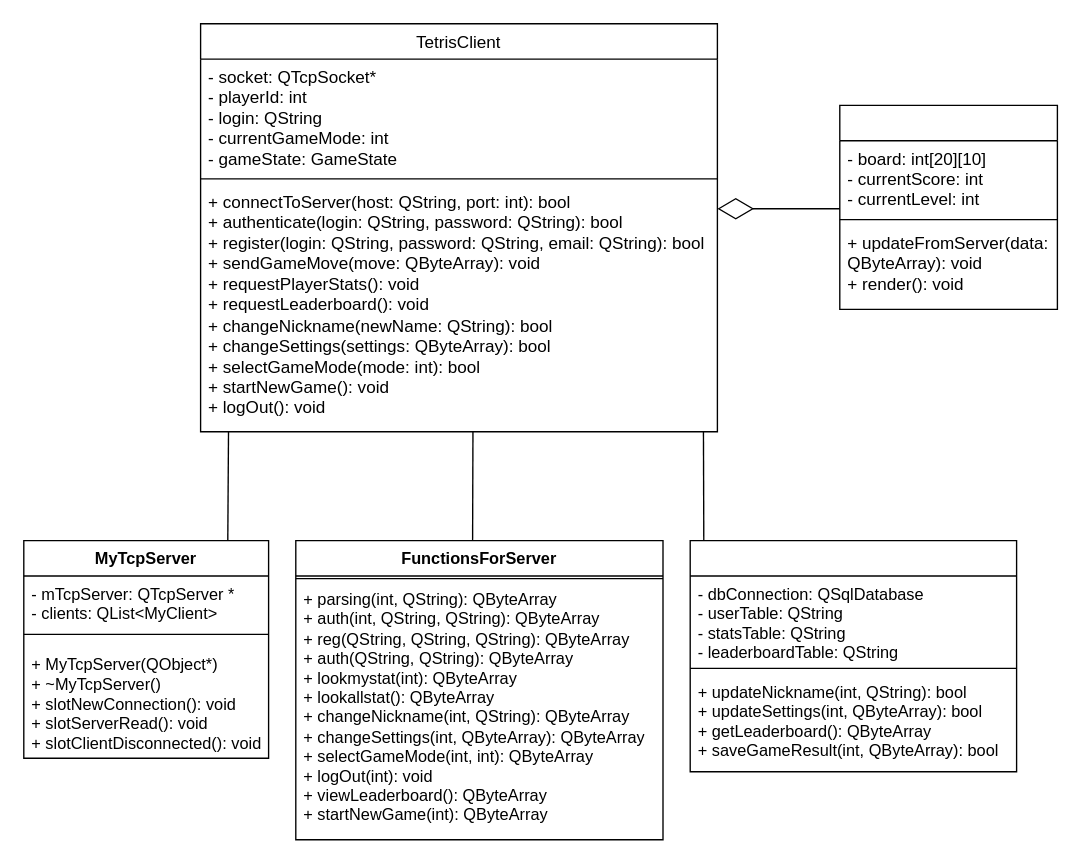
The diagram is 1081 pixels wide and 868 high, and some of its shapes have lost their labels. Each missing label, with the box of its shape:
GameState: (838, 104, 1057, 309)
MyDB: (689, 539, 1017, 772)
